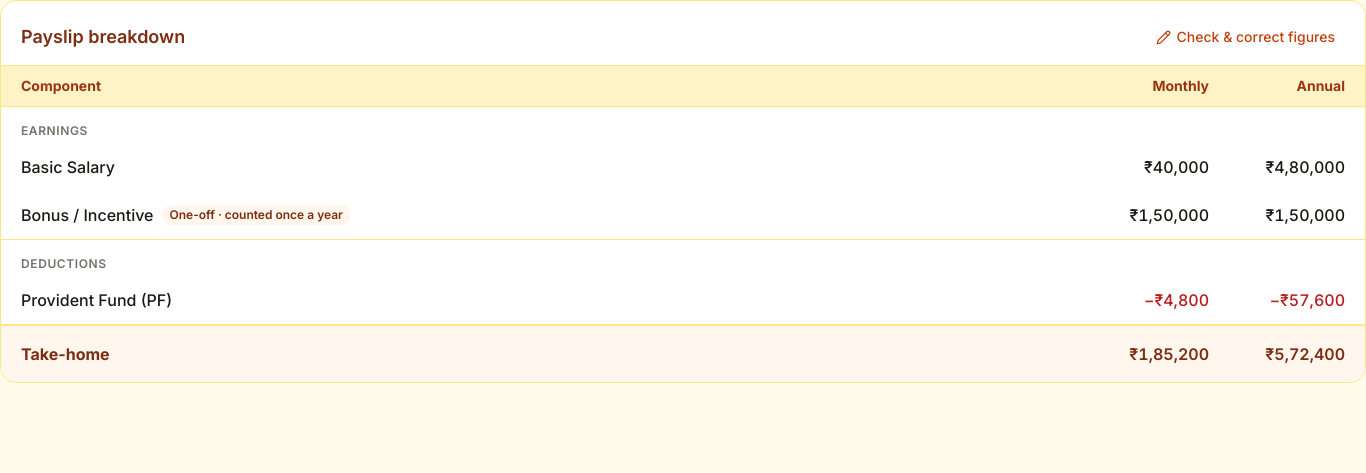
Test: BreakdownTable › shows a server error in the editor and keeps the rows
This screenshot has width=1366, height=473.
What coordinates should you click on to do the following:
click the button "Check & correct figures"
I would click on:
 (1245, 37)
Its box is x1=1146 y1=21 x2=1345 y2=53.
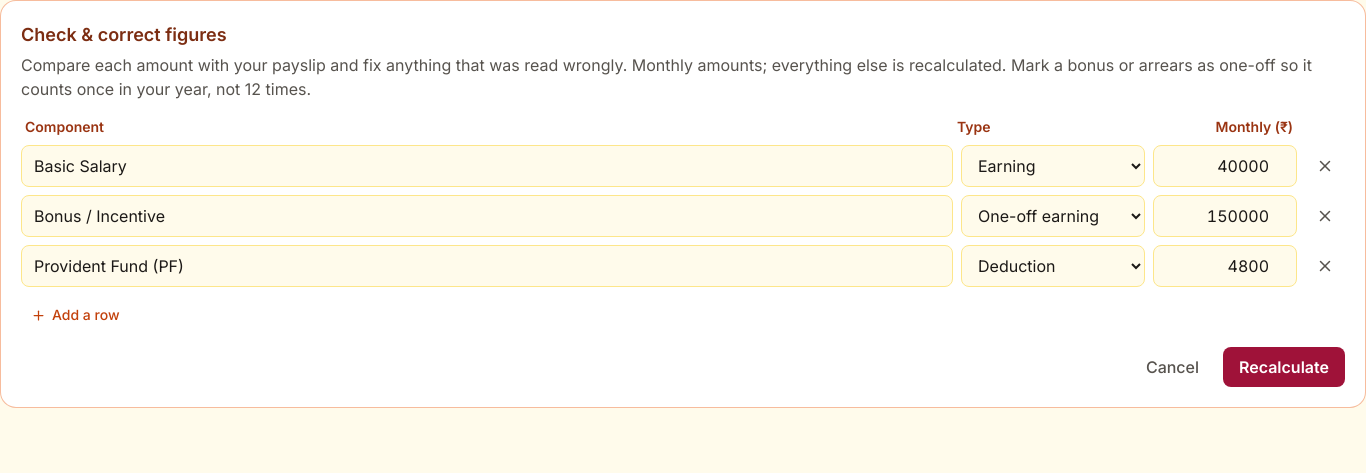
What coordinates should you click on to do the following:
click the button "Recalculate"
I would click on:
 (1284, 367)
Its box is x1=1223 y1=347 x2=1345 y2=387.
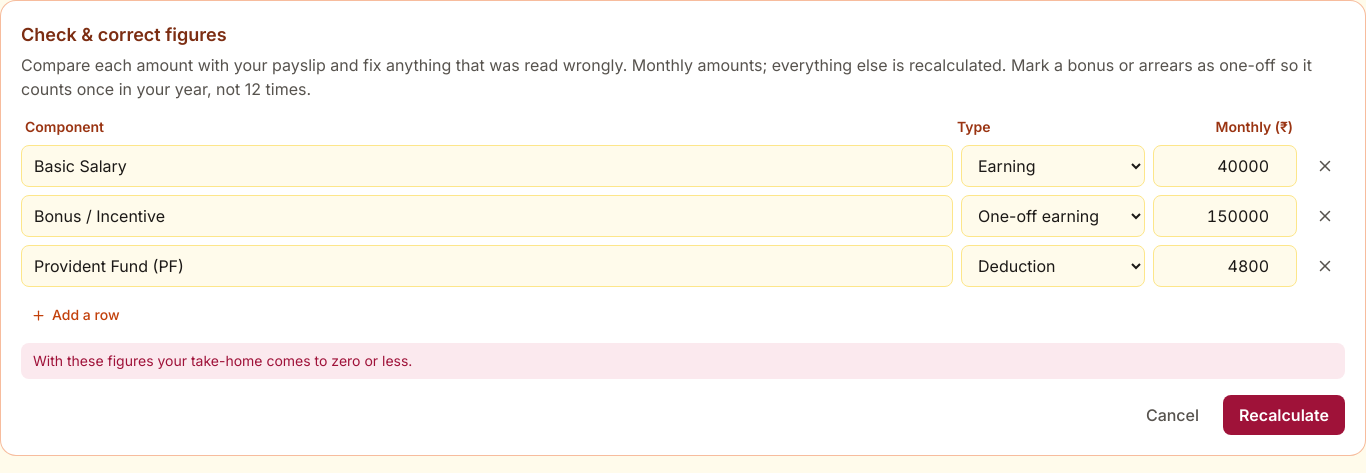
Expected: the field named "Row 1 name" holds "Basic Salary", x1=21 y1=145 x2=953 y2=187
Expected: the message shows "zero or less", x1=33 y1=352 x2=412 y2=369
